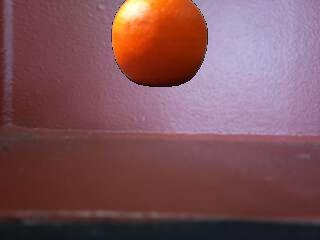Orange: (111, 0, 209, 88)
